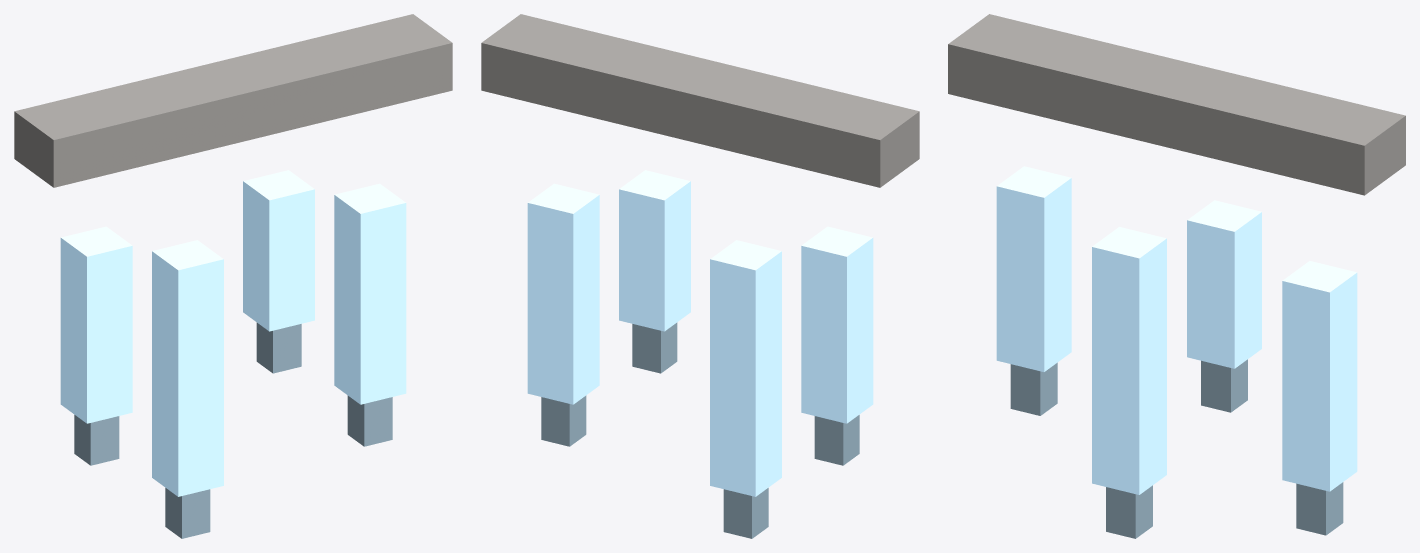
Rendered from built-icicles.glb.
The picture shows the model from 3 angles, left to right: view 1: azimuth 30°, elevation 25°; view 2: azimuth 150°, elevation 25°; view 3: azimuth 330°, elevation 25°; orthographic projection. The views are drawn at different scales.
Parts seen in each view (by area): view 1: built-icicles; view 2: built-icicles; view 3: built-icicles.
Boxes of the visible parts, x1,y1,x2,y2 form: built-icicles: (14,14,452,538); built-icicles: (481,14,919,538); built-icicles: (948,14,1405,538).
Bounding box in the file's own units: 0.7 × 0.74 × 0.12.
